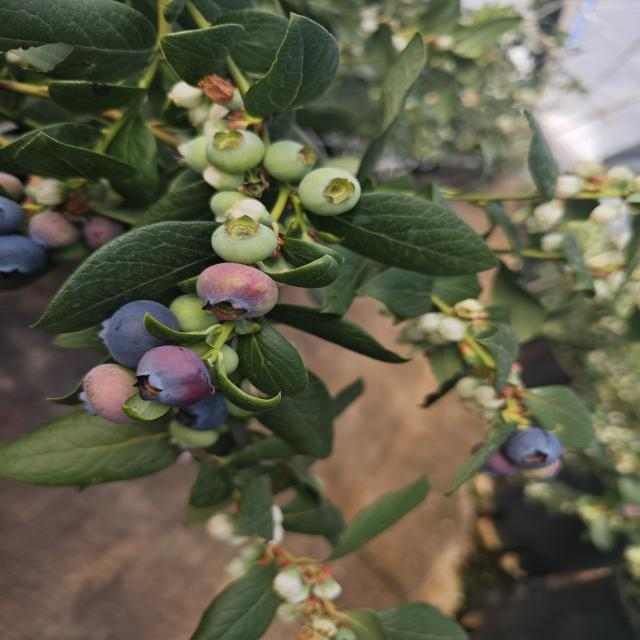ripe: (84, 296, 184, 370), (129, 341, 215, 410), (0, 190, 54, 281), (162, 388, 241, 444), (484, 429, 562, 485)
